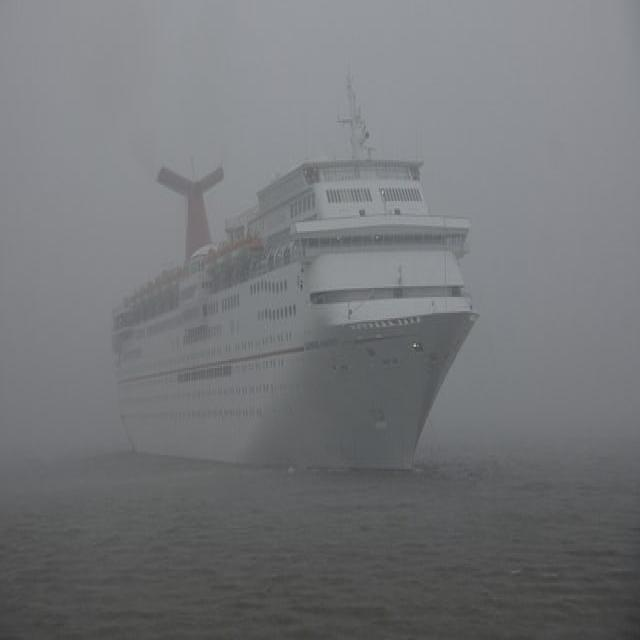passenger ship: (100, 115, 468, 480)
